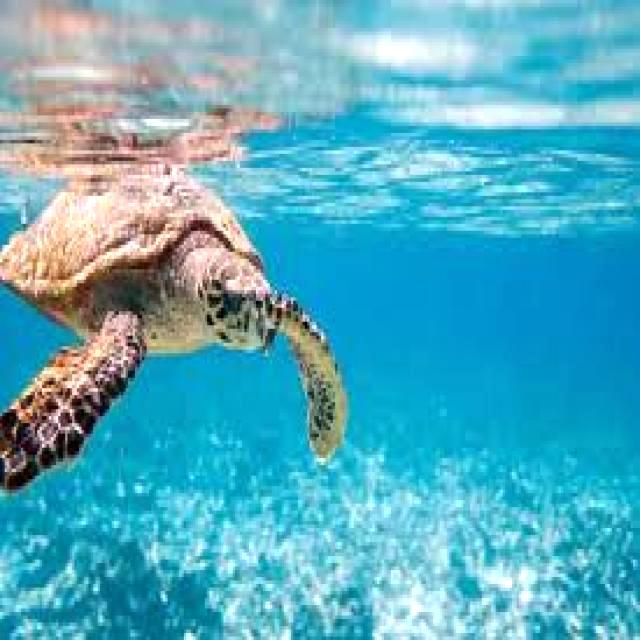Sea turtle: (2, 127, 362, 509)
